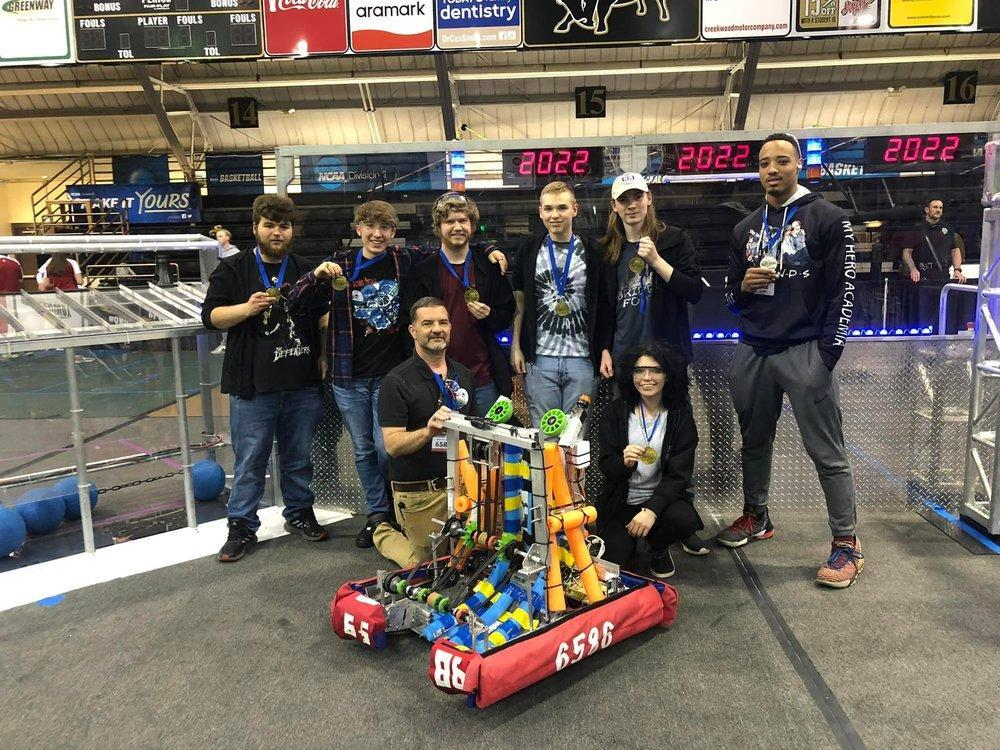robot: (327, 376, 682, 718)
